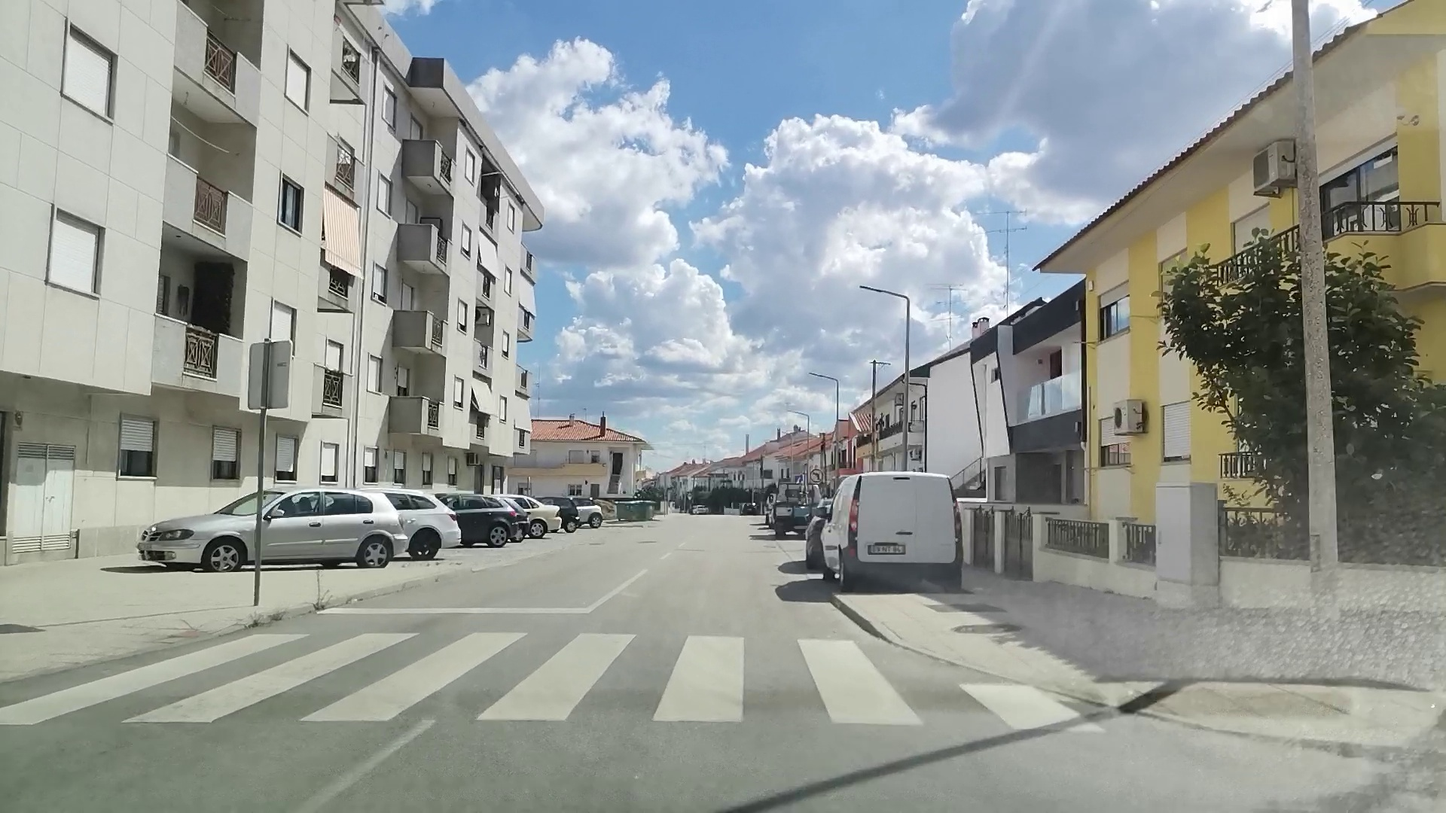Stairs: (0, 631, 1108, 734)
